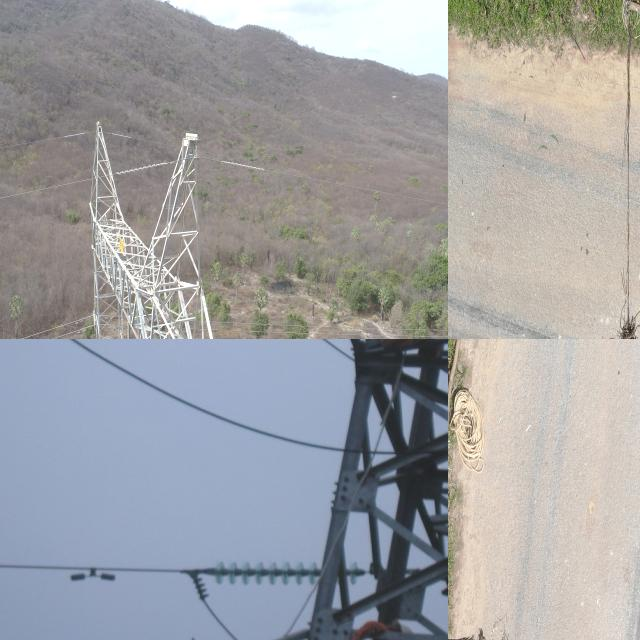杆塔: (182, 339, 448, 640), (83, 107, 252, 339)
正常绝缘子: (207, 557, 371, 593), (123, 302, 134, 339)
电缆破损: (608, 0, 640, 339), (462, 610, 640, 640)
